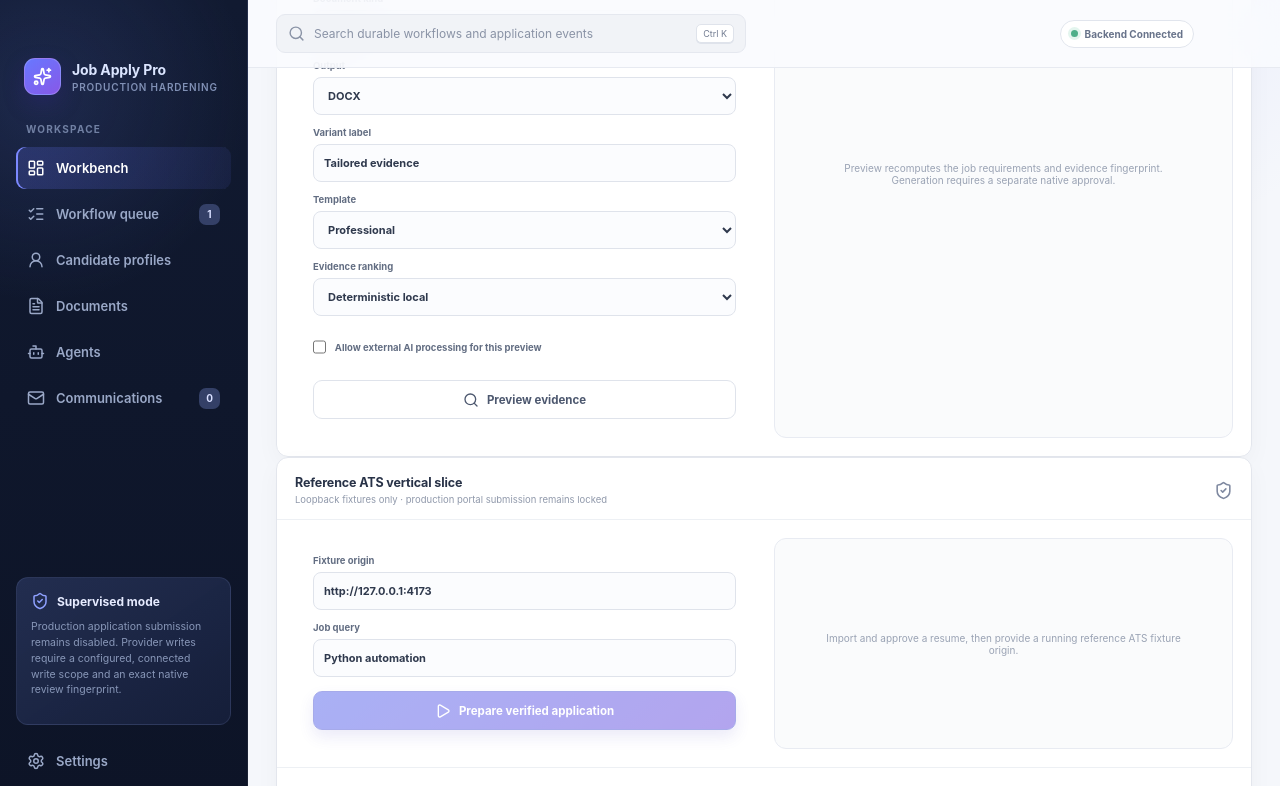
App › does not infer qualification from an empty missing-requirements list ([])
This screenshot has width=1280, height=786.
(page scrolled)
Click the button "Preview evidence" at (524, 400), box [313, 380, 736, 419]
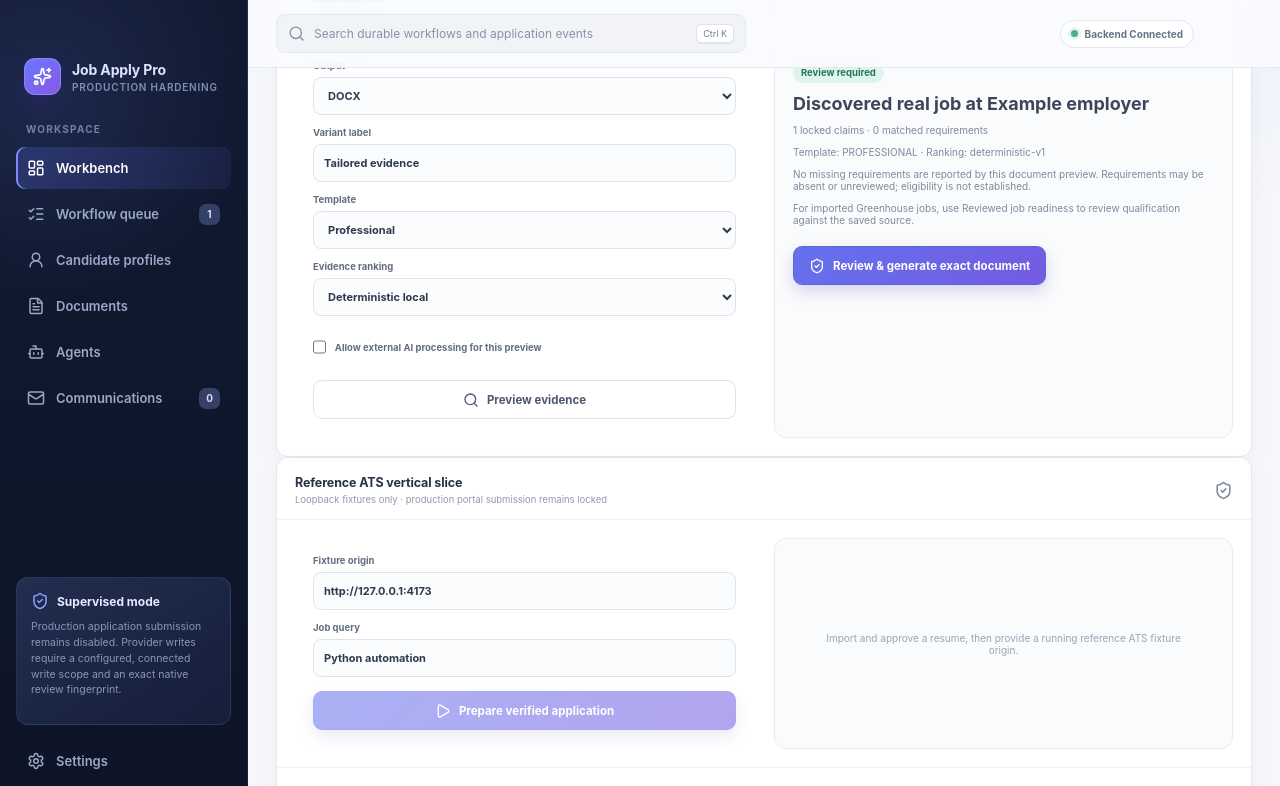
Result: the text "Requirements may be absent or unreviewed; eligibility is not established" is shown at [793, 168, 1204, 192]
Result: the text "For imported Greenhouse jobs, use Reviewed job readiness to review qualification against the saved source" is shown at [793, 202, 1180, 226]
